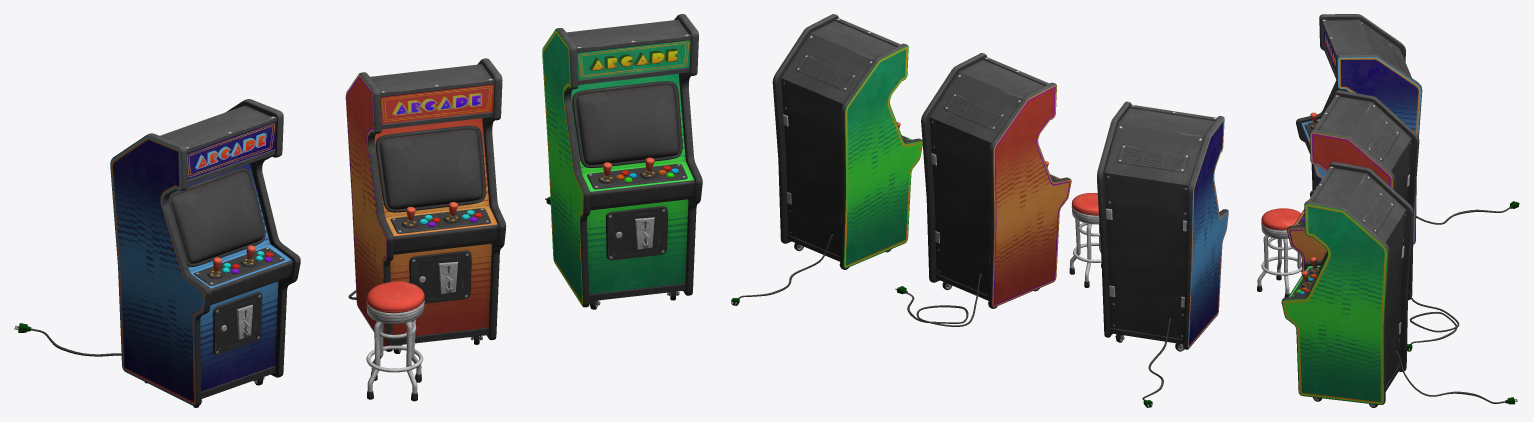
Rendered from Stylized_Arcade_Machine_-_Low_Poly-4cf20fda.glb.
3 renders of one model, left to right at view 1: azimuth 30°, elevation 25°; view 2: azimuth 150°, elevation 25°; view 3: azimuth 270°, elevation 25°, orthographic. The views are drawn at different scales.
Parts seen in each view (by area): view 1: SM_ArcadeMachineA_ArcadeA_0, SM_ArcadeMachineC_ArcadeC_0, SM_ArcadeMachineB_ArcadeB_0, SM_ArcadeChair_Chair_0; view 2: SM_ArcadeMachineC_ArcadeC_0, SM_ArcadeMachineB_ArcadeB_0, SM_ArcadeMachineA_ArcadeA_0, SM_ArcadeChair_Chair_0, SM_Cable_ArcadeB_0; view 3: SM_ArcadeMachineC_ArcadeC_0, SM_ArcadeMachineB_ArcadeB_0, SM_ArcadeMachineA_ArcadeA_0, SM_ArcadeChair_Chair_0, SM_Cable_ArcadeB_0, SM_CableB_ArcadeC_0, SM_CableB_ArcadeA_0.
Boxes of the visible parts, x1=… form: SM_ArcadeMachineA_ArcadeA_0: x1=110, y1=99, x2=300, y2=407; SM_ArcadeMachineC_ArcadeC_0: x1=542, y1=14, x2=702, y2=309; SM_ArcadeMachineB_ArcadeB_0: x1=345, y1=58, x2=506, y2=353; SM_ArcadeChair_Chair_0: x1=366, y1=281, x2=424, y2=401; SM_ArcadeMachineC_ArcadeC_0: x1=772, y1=14, x2=922, y2=269; SM_ArcadeMachineB_ArcadeB_0: x1=921, y1=53, x2=1071, y2=308; SM_ArcadeMachineA_ArcadeA_0: x1=1097, y1=101, x2=1228, y2=351; SM_ArcadeChair_Chair_0: x1=1069, y1=193, x2=1101, y2=287; SM_Cable_ArcadeB_0: x1=895, y1=273, x2=981, y2=326; SM_ArcadeMachineC_ArcadeC_0: x1=1281, y1=161, x2=1413, y2=407; SM_ArcadeMachineB_ArcadeB_0: x1=1287, y1=90, x2=1419, y2=300; SM_ArcadeMachineA_ArcadeA_0: x1=1296, y1=14, x2=1422, y2=244; SM_ArcadeChair_Chair_0: x1=1257, y1=208, x2=1302, y2=297; SM_Cable_ArcadeB_0: x1=1407, y1=290, x2=1459, y2=351; SM_CableB_ArcadeC_0: x1=1396, y1=351, x2=1517, y2=404; SM_CableB_ArcadeA_0: x1=1416, y1=201, x2=1519, y2=224.
Bounding box in the file's own units: 5.04 × 2.29 × 2.65.
4 materials, 4 textured.
